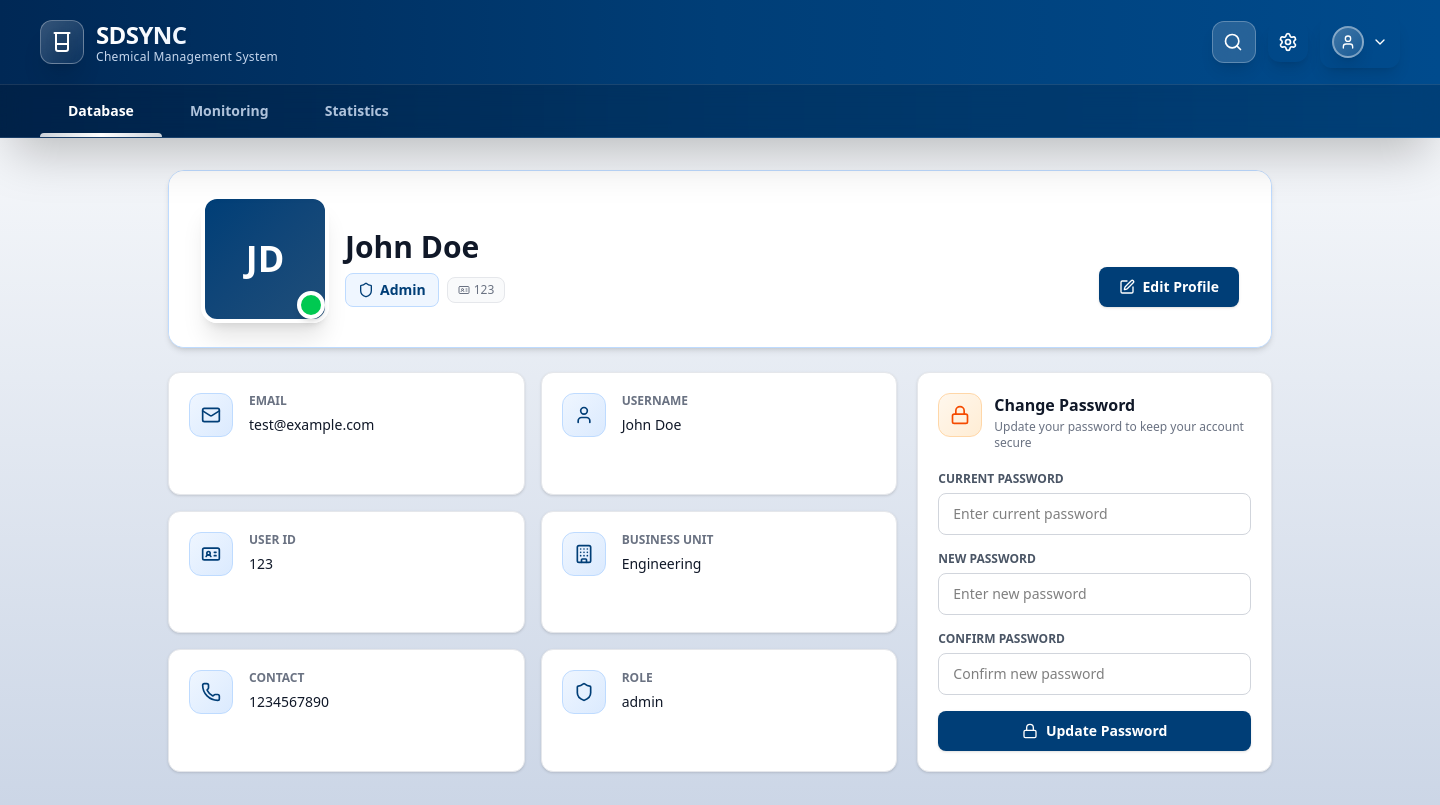
it: Profile page › opens edit profile form when Edit Profile is clicked
Click the button "Edit Profile". click: (1169, 287)
box: [1098, 267, 1239, 307]
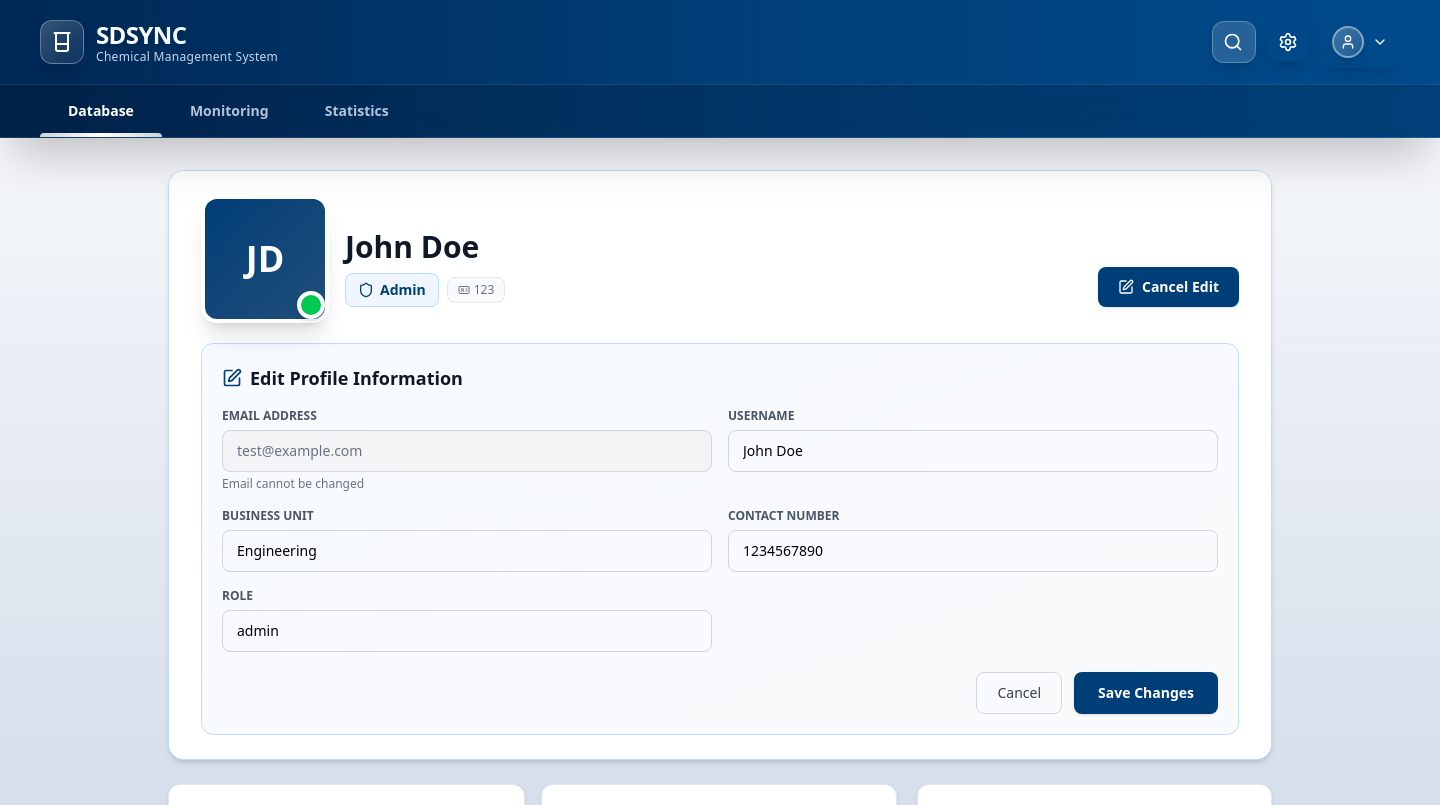
Now the heading "Edit Profile Information" is shown, box [222, 366, 463, 390]
Now the form with test id "edit-profile-form" is shown, box [201, 343, 1239, 735]
